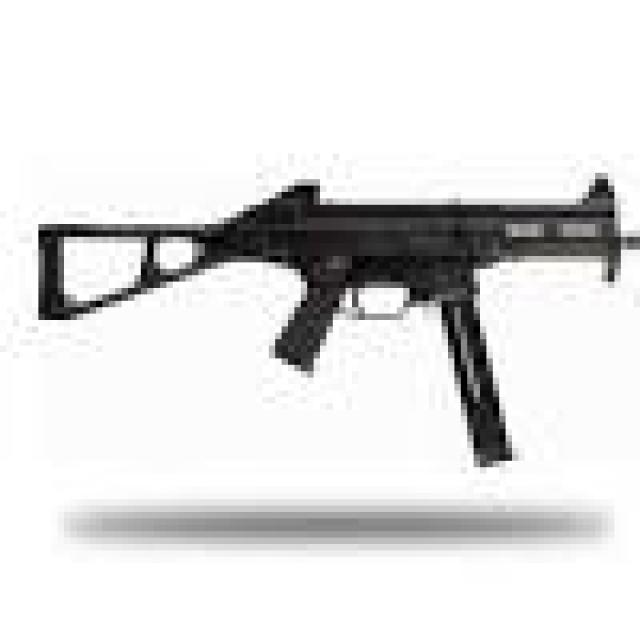Gun: (21, 160, 640, 470)
